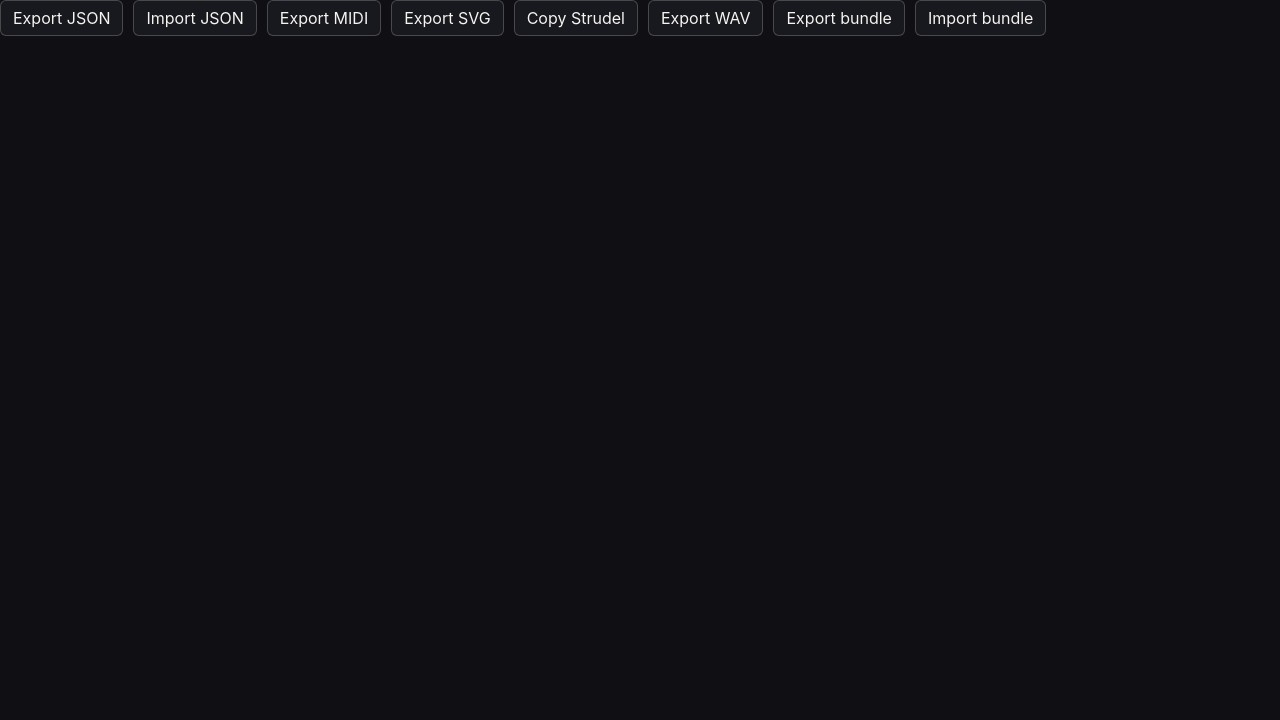
ImportExportPanel bundle dialog › reports what embedding costs, in a unit that reads
Click the button "Export bundle": (839, 18) [774,0,905,36]
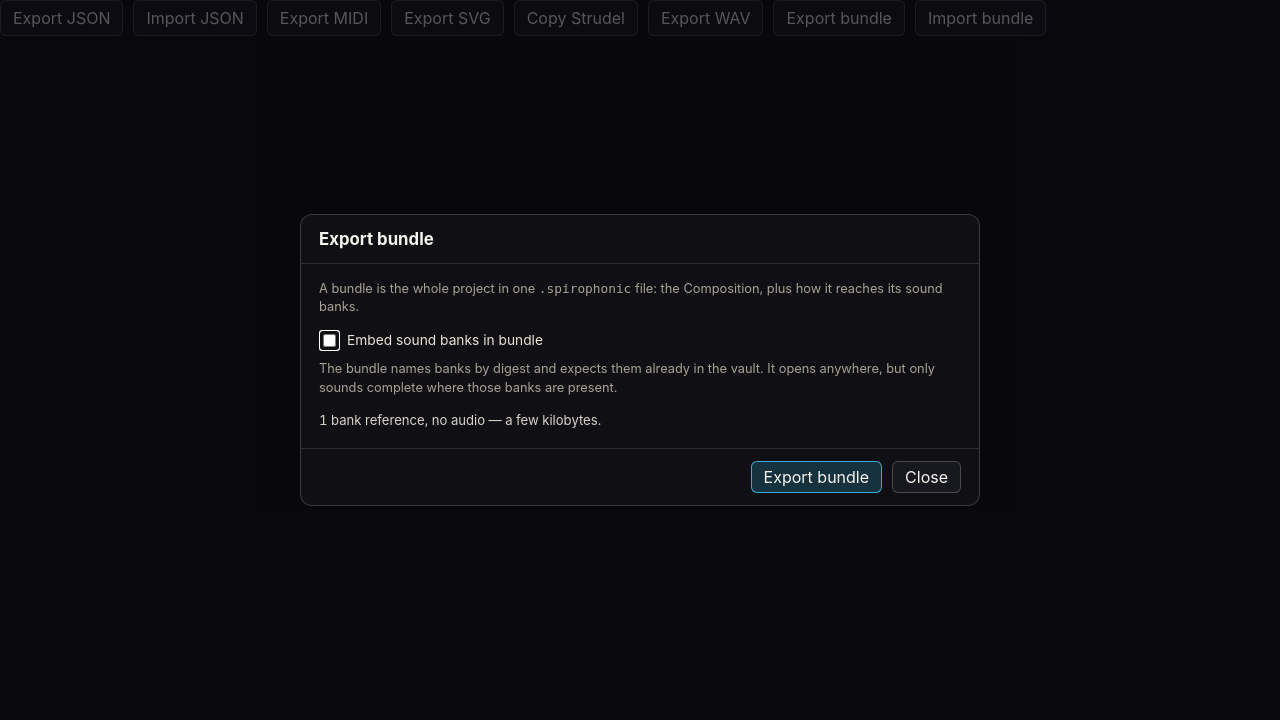
Now the text "1 bank reference, no audio — a few kilobytes." is shown, box [319,412,601,428]
Click the checkbox labelled "Embed sound banks in bundle": (330, 340) [323,334,336,347]
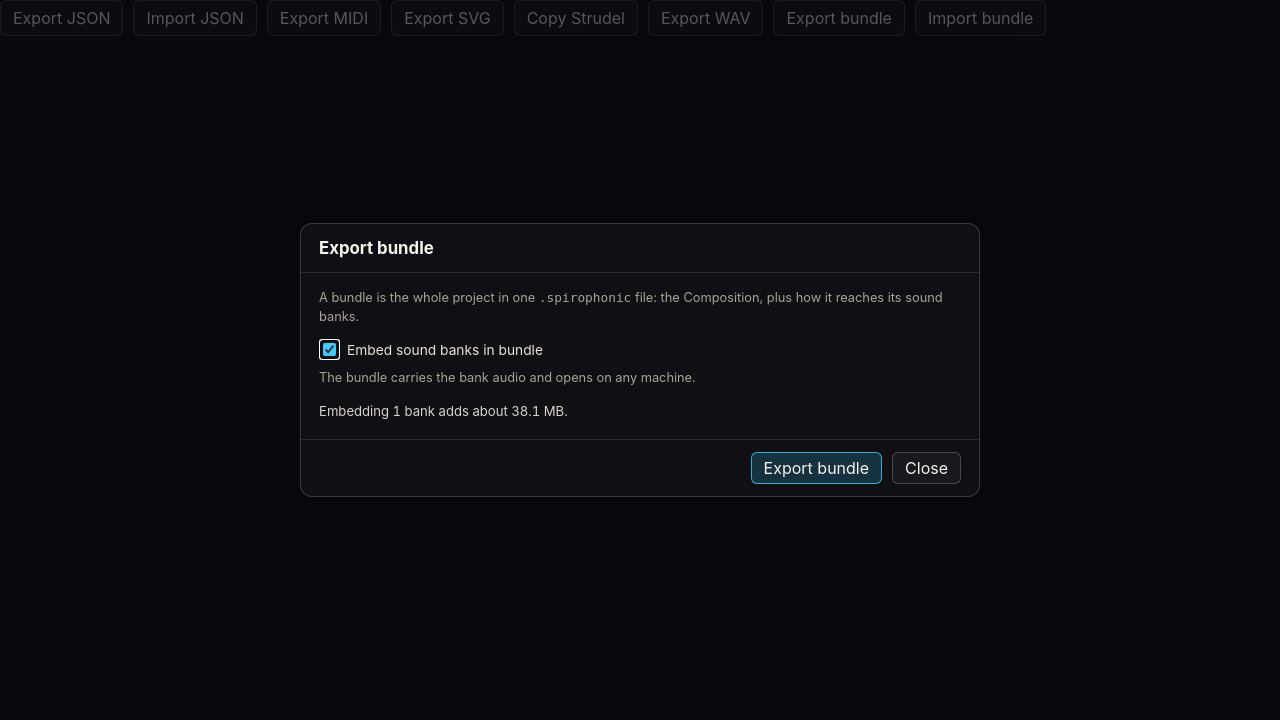
Now the text "Embedding 1 bank adds about 38.1 MB." is shown, box [319,403,568,419]
